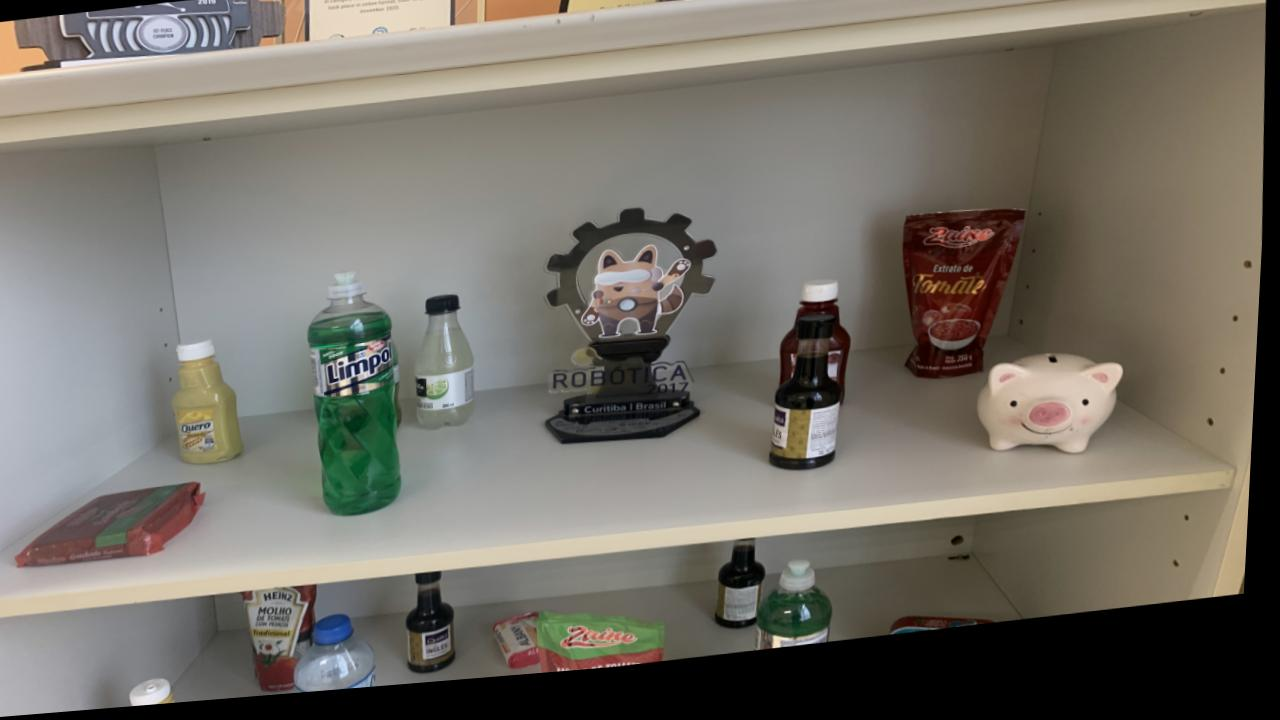Detergent-Cleanup_Items: (313, 279, 407, 522), (763, 574, 839, 663)
English_Sauce-Pantry_Items: (774, 328, 847, 485), (413, 580, 463, 682), (724, 552, 771, 642)
Guava-Snacks: (21, 486, 209, 568)
Ketchup-Pantry_Items: (800, 293, 855, 415), (785, 339, 803, 398)
Mustard-Pantry_Items: (177, 343, 247, 468), (138, 681, 183, 709)
Pig_Safe-Miscellaneous: (982, 372, 1128, 472)
Soap-Cleanup_Items: (501, 621, 548, 679)
Soda-Drinks: (420, 302, 480, 437)
Tomato_Sauce-Pantry_Items: (906, 226, 1028, 395), (543, 621, 673, 683), (249, 590, 324, 697)
Trophy-Miscellaneous: (550, 219, 721, 454)
Tuna_Can-Pantry_Items: (898, 631, 1001, 651)
Water_Bottle-Drinks: (301, 621, 383, 699)
